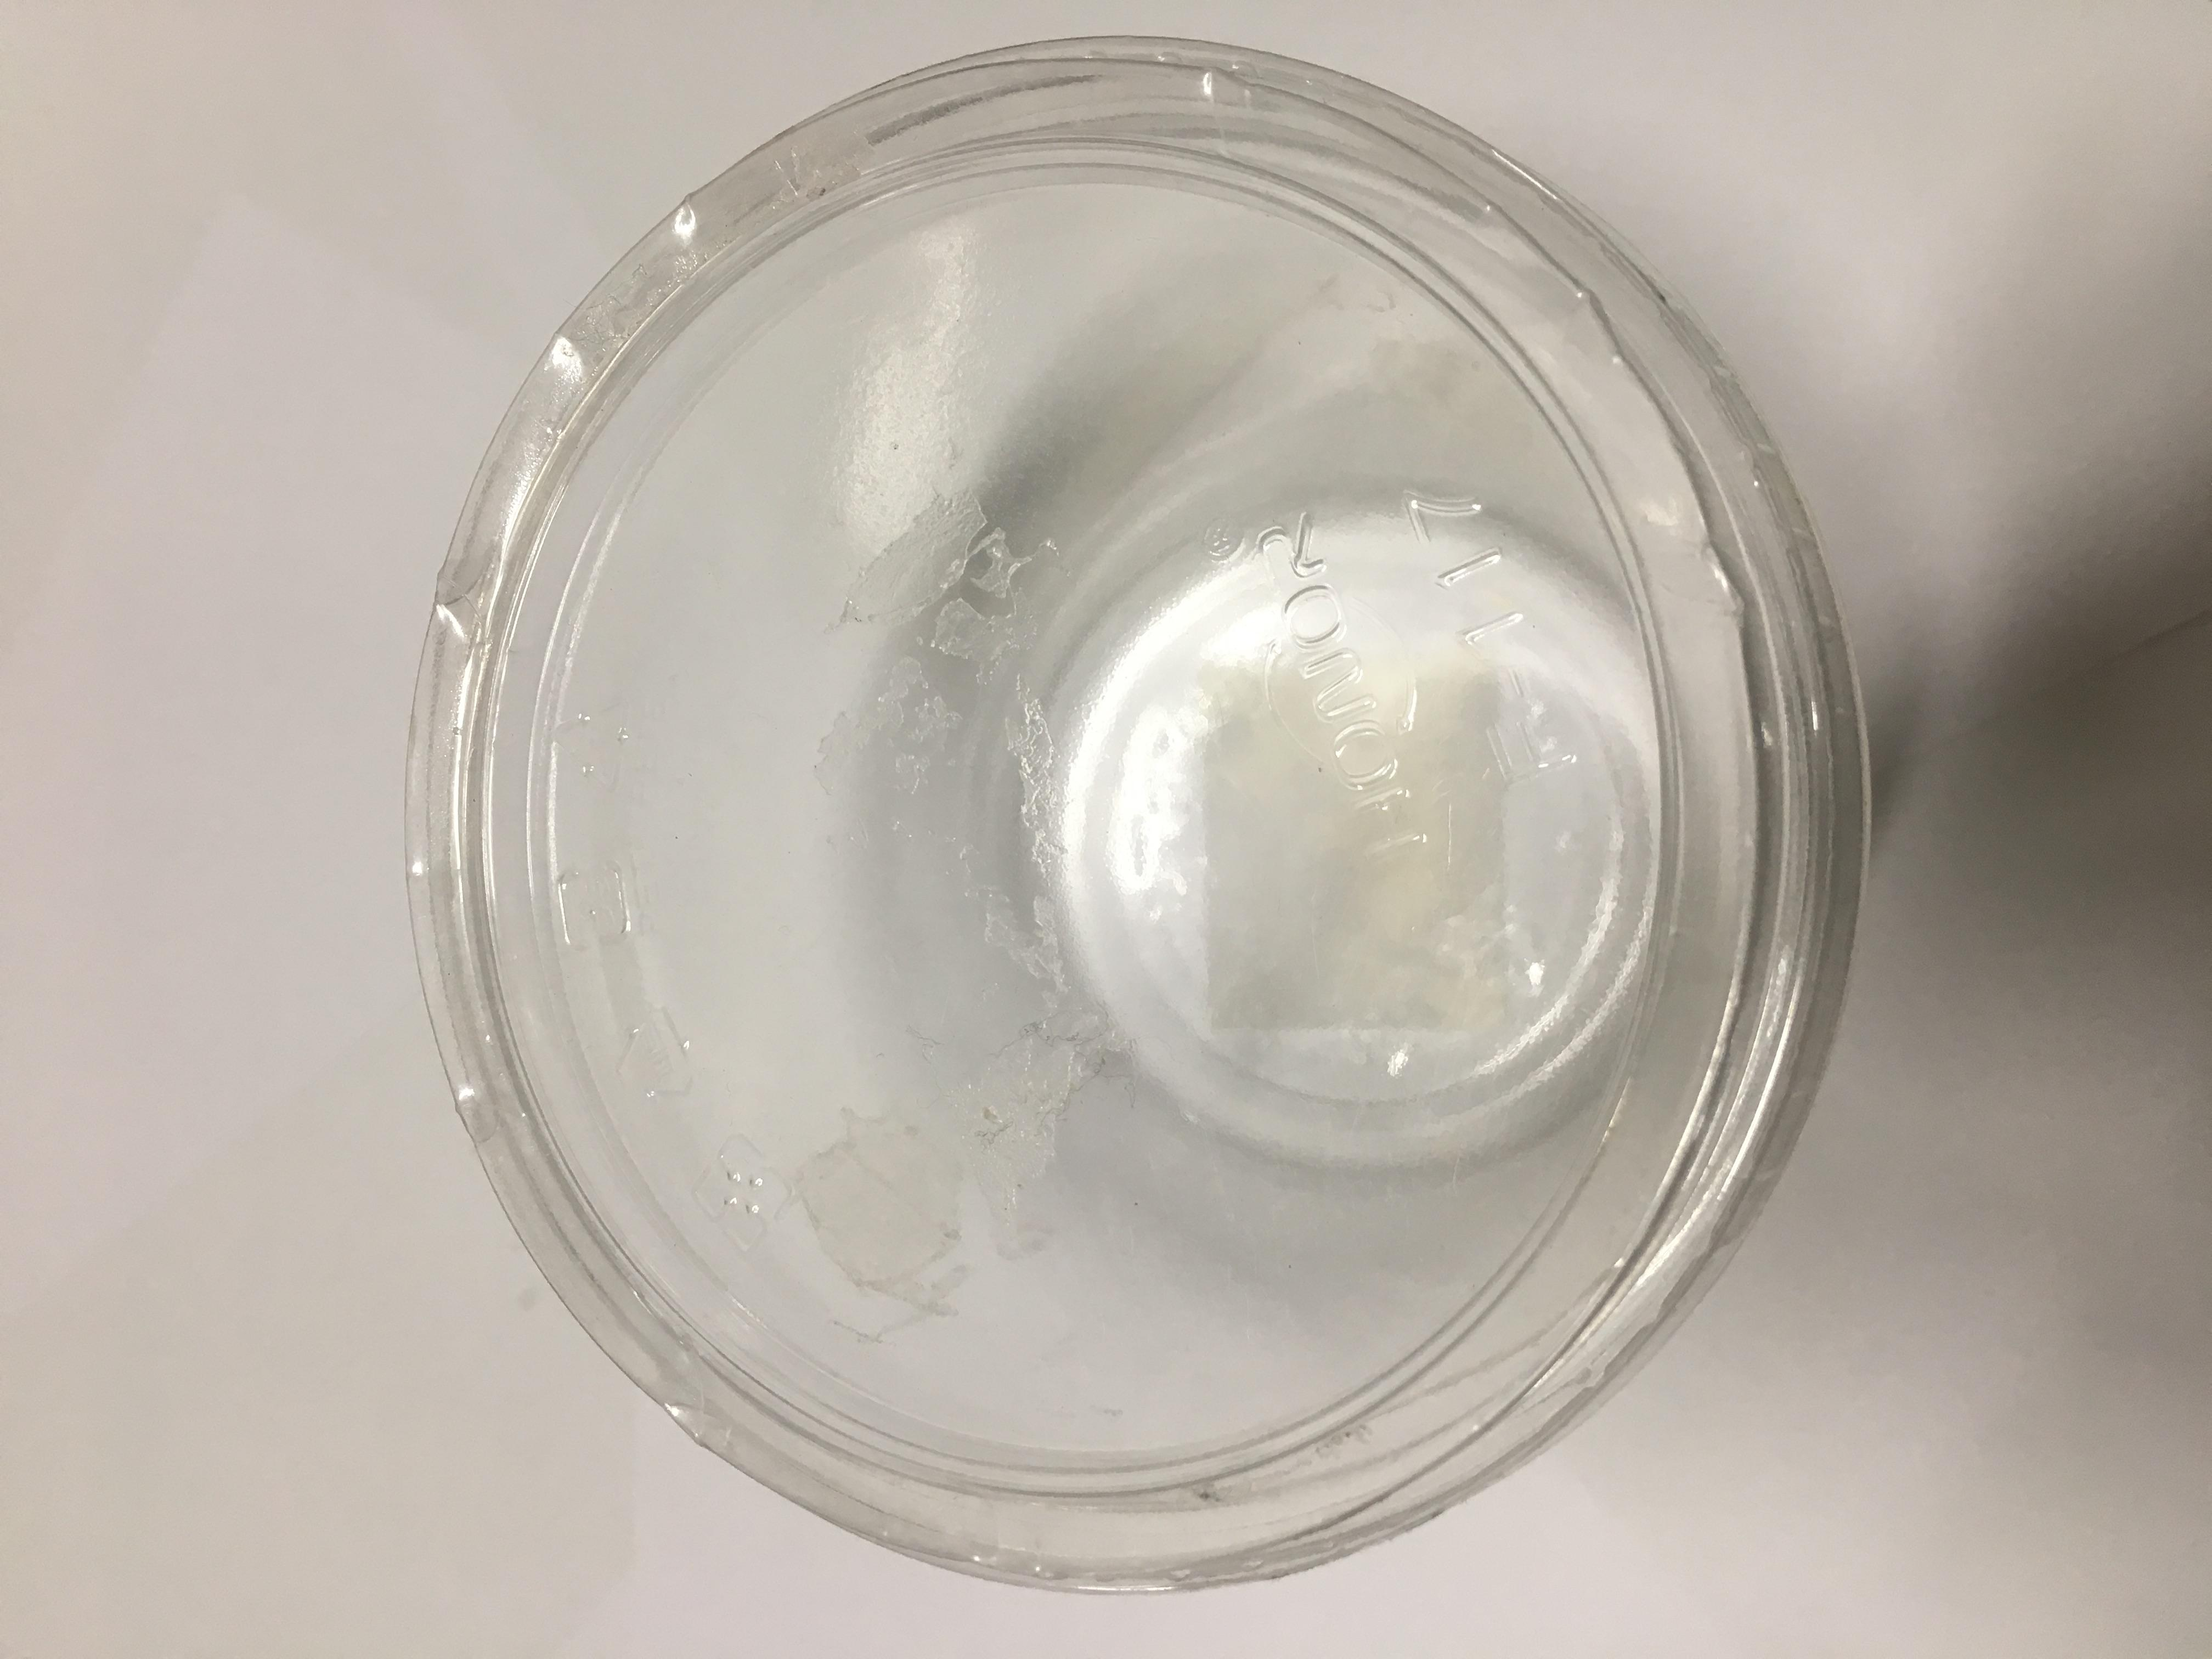bottle: (10, 230, 2212, 1429)
